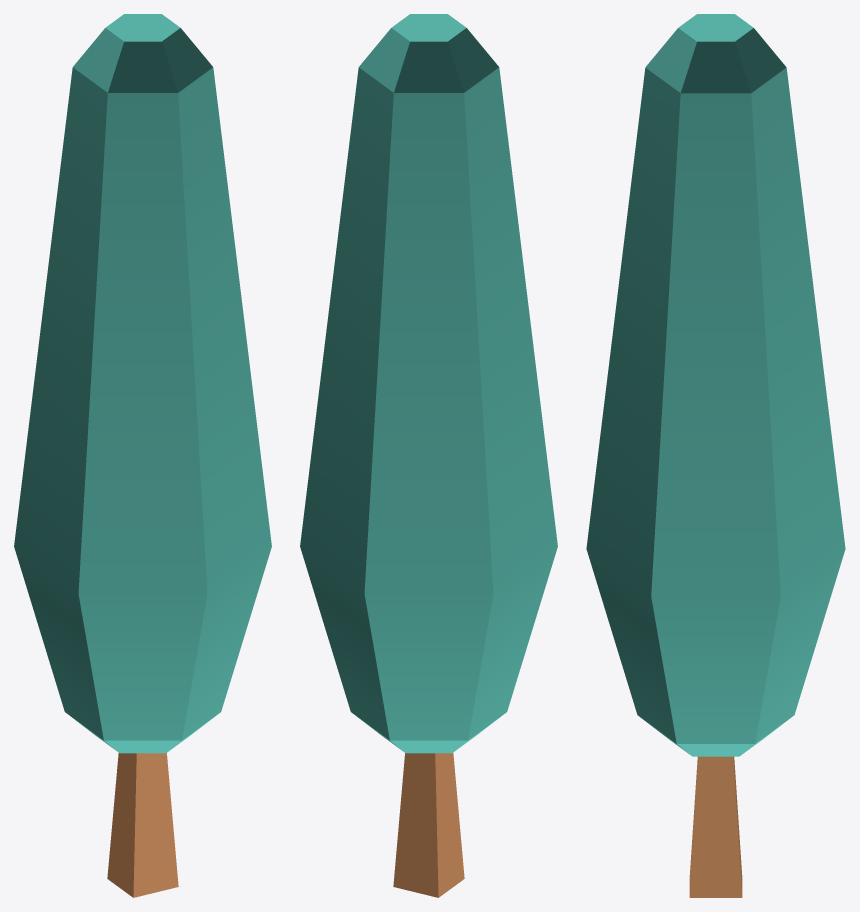
File: tree_tall.obj
3 renders of one model, left to right at view 1: azimuth 30°, elevation 25°; view 2: azimuth 150°, elevation 25°; view 3: azimuth 270°, elevation 25°, orthographic.
Parts seen in each view (by area): view 1: tree_tall; view 2: tree_tall; view 3: tree_tall.
Part boxes in pixels (x1,y1,x2,y2): tree_tall: [14, 14, 271, 897]; tree_tall: [300, 14, 557, 897]; tree_tall: [586, 14, 845, 897].
Bounding box in the file's own units: 4 × 16.88 × 4.61.
